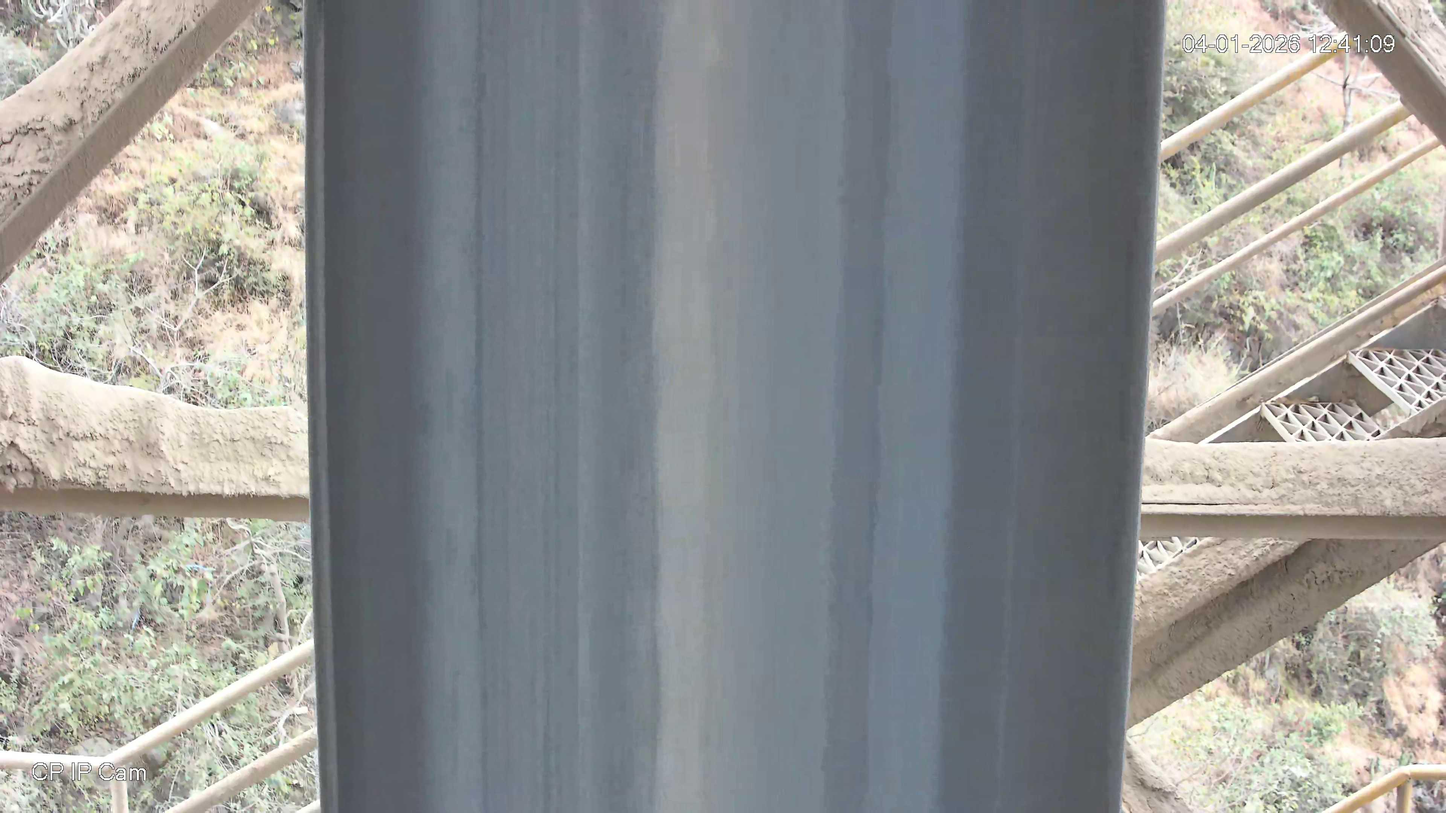belt_roi: (303, 0, 1167, 813)
